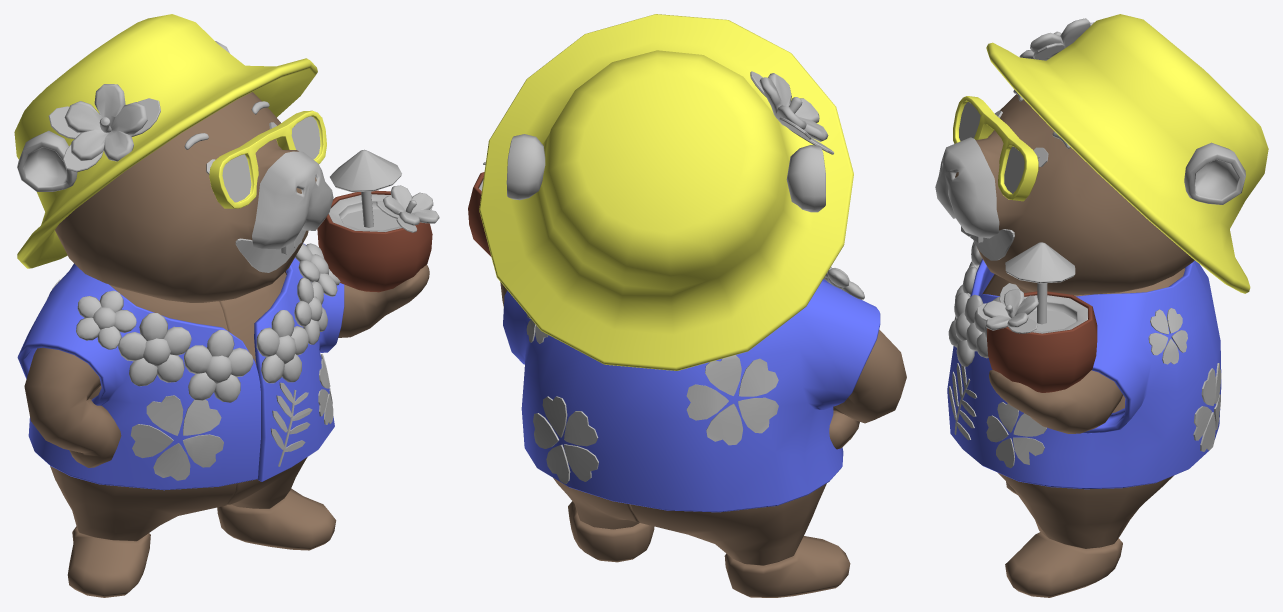
File: ChillingCapybara_Fix.fbx
3 renders of one model, left to right at view 1: azimuth 30°, elevation 25°; view 2: azimuth 150°, elevation 25°; view 3: azimuth 270°, elevation 25°, orthographic. The views are drawn at different scales.
Visible parts, largest first — view 1: S_ChillingCapybara_8, S_ChillingCapybara_10, S_ChillingCapybara_9, S_ChillingCapybara_2, S_ChillingCapybara_6, M_ChillingCapybara_001, S_ChillingCapybara_4, D_ChillingCapybara_001, M_ChillingCapybara_004, S_ChillingCapybara_1, D_ChillingCapybara_15, M_ChillingCapybara_002 (+19 smaller); view 2: S_ChillingCapybara_9, S_ChillingCapybara_8, M_ChillingCapybara_001, M_ChillingCapybara_002, S_ChillingCapybara_6, M_ChillingCapybara_004, D_ChillingCapybara_14, D_ChillingCapybara_13, D_ChillingCapybara_15, M_ChillingCapybara_003, D_ChillingCapybara_27, D_ChillingCapybara_22 (+9 smaller); view 3: S_ChillingCapybara_9, S_ChillingCapybara_8, S_ChillingCapybara_10, M_ChillingCapybara_003, S_ChillingCapybara_4, M_ChillingCapybara_004, S_ChillingCapybara_5, D_ChillingCapybara_001, D_ChillingCapybara_13, S_ChillingCapybara_11, D_ChillingCapybara_54, S_ChillingCapybara_1 (+9 smaller).
Part boxes in pixels (box(x1,y1,x2,y2)): S_ChillingCapybara_8: box(17, 243, 344, 490); S_ChillingCapybara_10: box(55, 92, 316, 302); S_ChillingCapybara_9: box(14, 14, 317, 268); S_ChillingCapybara_2: box(76, 290, 253, 402); S_ChillingCapybara_6: box(24, 347, 121, 467); M_ChillingCapybara_001: box(50, 466, 236, 541); S_ChillingCapybara_4: box(317, 190, 432, 292); D_ChillingCapybara_001: box(252, 151, 333, 249); M_ChillingCapybara_004: box(217, 488, 336, 550); S_ChillingCapybara_1: box(256, 243, 340, 383); D_ChillingCapybara_15: box(64, 84, 147, 161); M_ChillingCapybara_002: box(67, 526, 150, 597); S_ChillingCapybara_9: box(479, 14, 853, 370); S_ChillingCapybara_8: box(503, 279, 880, 512); M_ChillingCapybara_001: box(630, 483, 826, 565); M_ChillingCapybara_002: box(724, 536, 850, 597); S_ChillingCapybara_6: box(829, 330, 906, 449); M_ChillingCapybara_004: box(568, 501, 654, 562); D_ChillingCapybara_14: box(786, 145, 825, 212); D_ChillingCapybara_13: box(506, 134, 545, 200); D_ChillingCapybara_15: box(759, 73, 828, 141); M_ChillingCapybara_003: box(553, 478, 639, 529); D_ChillingCapybara_27: box(686, 384, 728, 420); D_ChillingCapybara_22: box(738, 358, 778, 396); S_ChillingCapybara_9: box(986, 14, 1268, 293); S_ChillingCapybara_8: box(947, 258, 1221, 489); S_ChillingCapybara_10: box(955, 94, 1194, 295); M_ChillingCapybara_003: box(997, 472, 1173, 548); S_ChillingCapybara_4: box(987, 291, 1097, 392); M_ChillingCapybara_004: box(1005, 532, 1122, 597); S_ChillingCapybara_5: box(989, 370, 1122, 433); D_ChillingCapybara_001: box(935, 137, 999, 238); D_ChillingCapybara_13: box(1184, 142, 1245, 204); S_ChillingCapybara_11: box(953, 96, 1038, 201); D_ChillingCapybara_54: box(1005, 242, 1075, 283); S_ChillingCapybara_1: box(948, 292, 999, 366).
Bounding box in the file's own units: 512 × 621 × 370.
